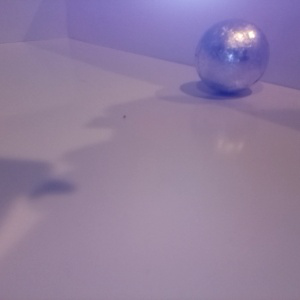alive_ball: (195, 18, 269, 93)
